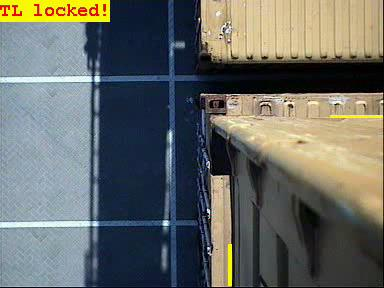groundmarker_2: (141, 114, 196, 157)
